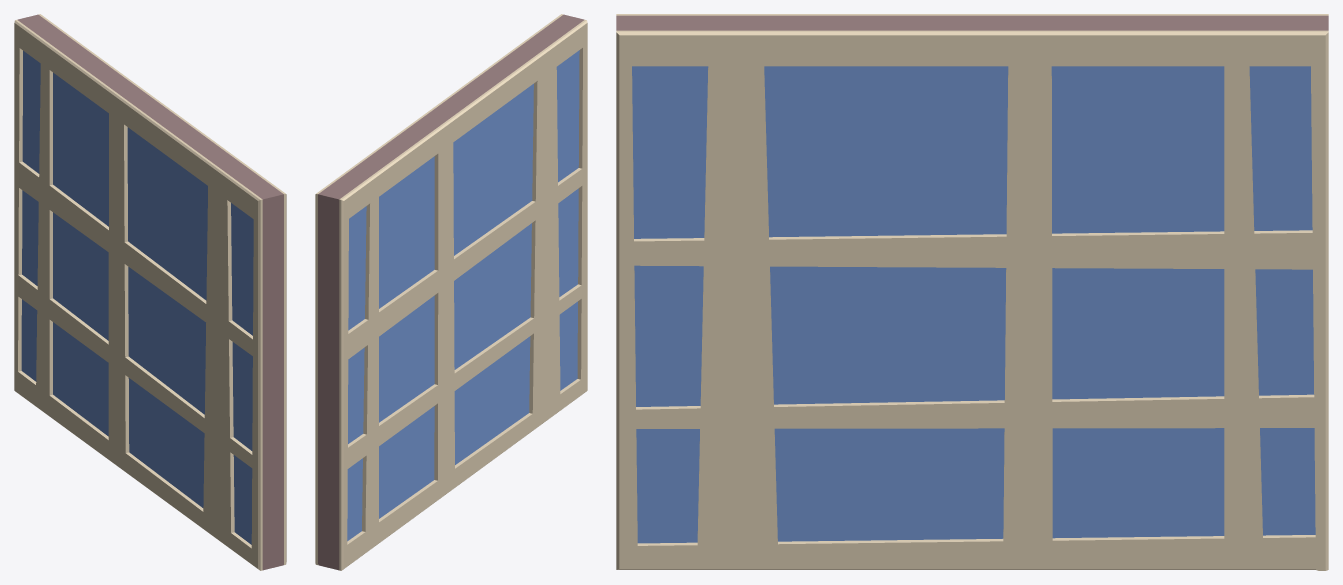
File: prop-window.fbx
3 views of the same model, side by side, from view 1: azimuth 30°, elevation 25°; view 2: azimuth 150°, elevation 25°; view 3: azimuth 270°, elevation 25° (orthographic). The views are drawn at different scales.
Parts seen in each view (by area): view 1: Plane; view 2: Plane; view 3: Plane.
Boxes of the visible parts, x1,y1,x2,y2 form: Plane: (14,14,286,570); Plane: (315,14,587,570); Plane: (616,14,1328,570).
Bounding box in the file's own units: 8 × 100 × 120.
